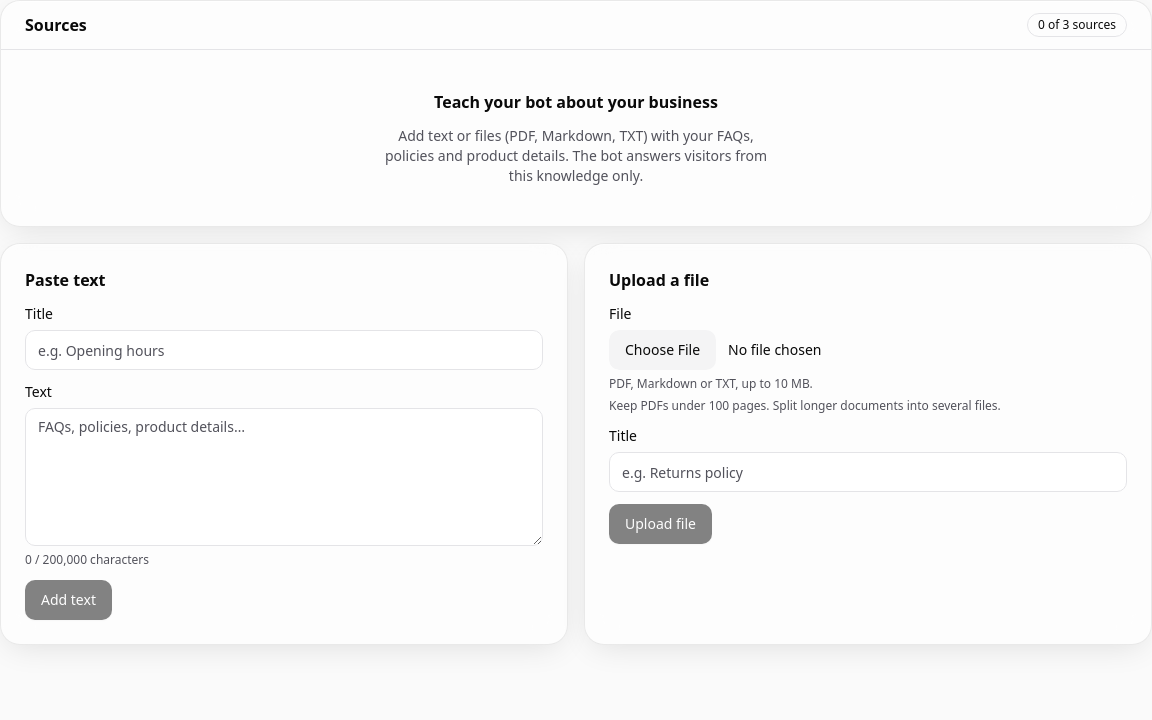
Test: paste › shows other errors under the form
The image size is (1152, 720).
Type "T" into the field labelled "Title" below "Paste text" at (284,350), box [25,330,543,370]
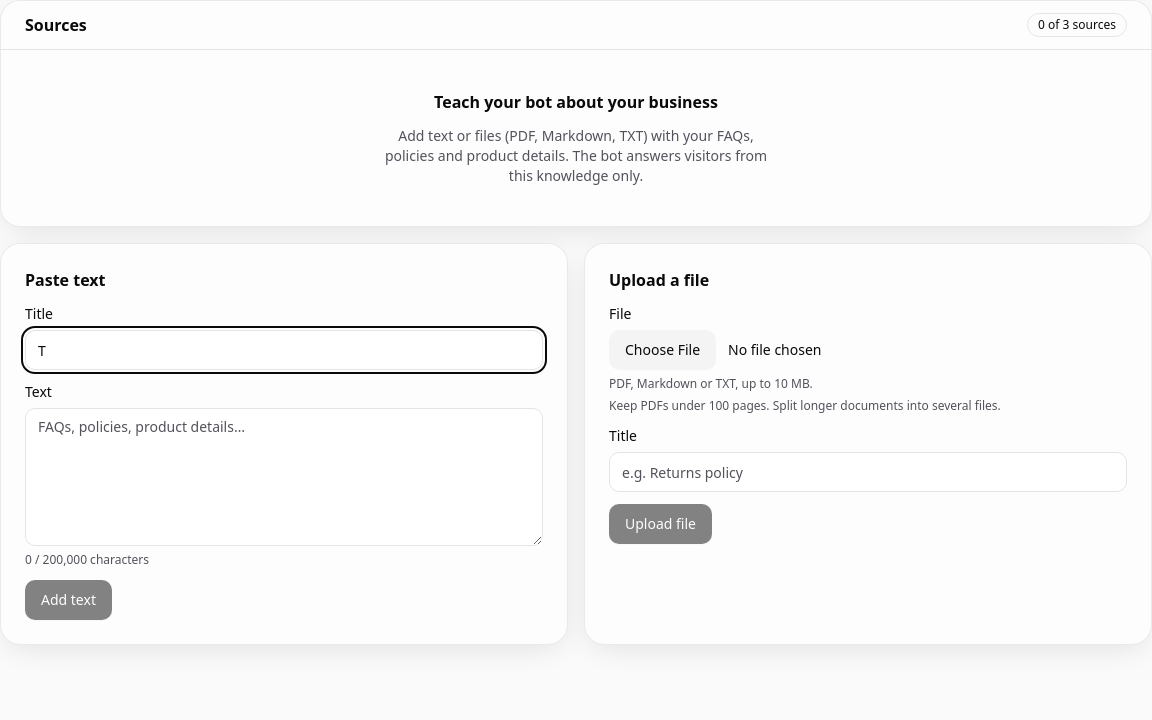
Type "x" into the text box labelled "Text" at (284,477), box [25,408,543,546]
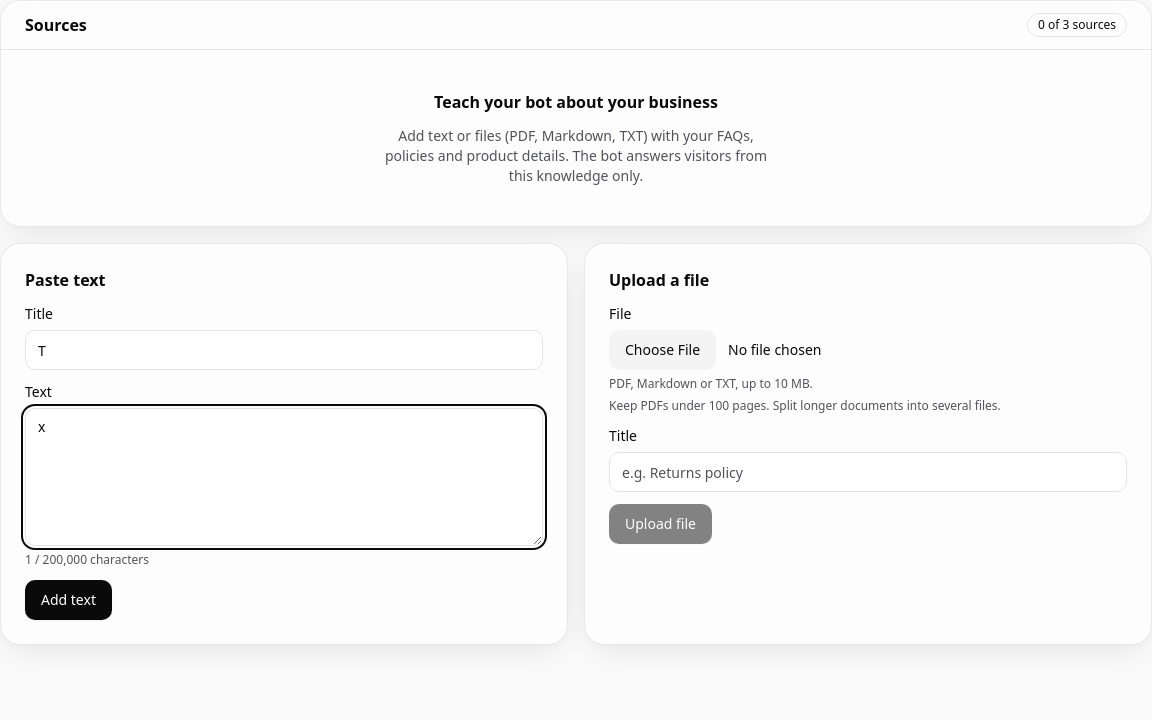
Click the button "Add text" at (68,600), box [25,580,112,620]
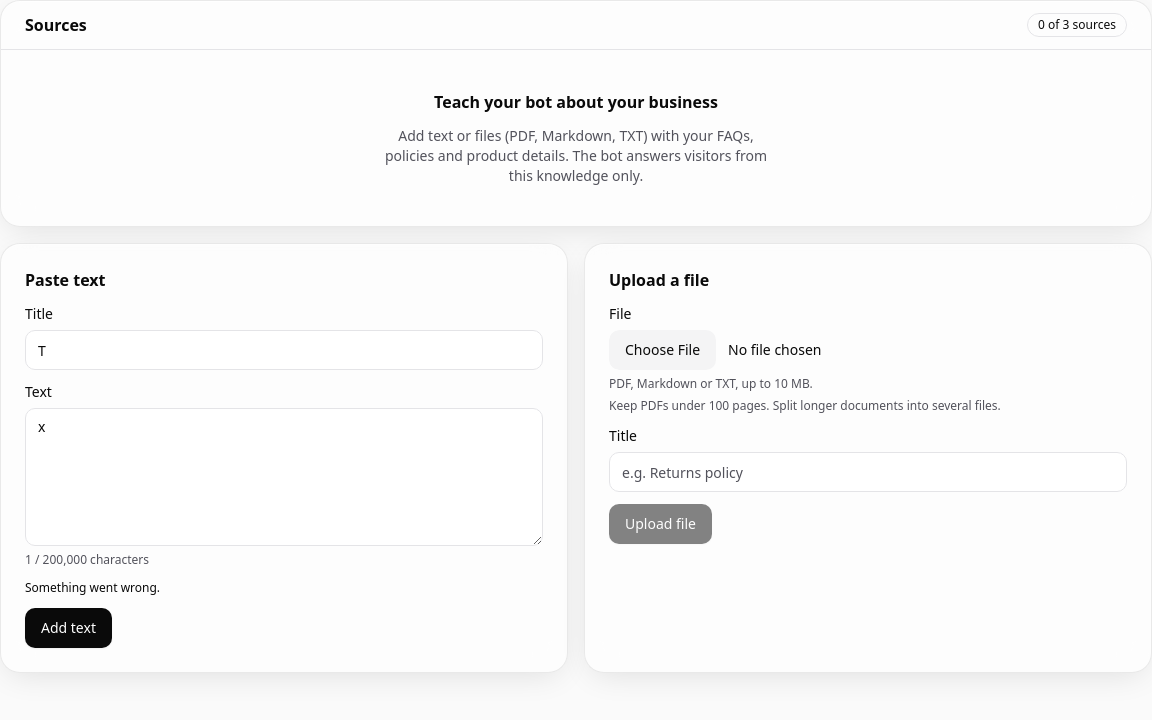
Result: the message reads "Something went wrong." at [25,579,160,596]
